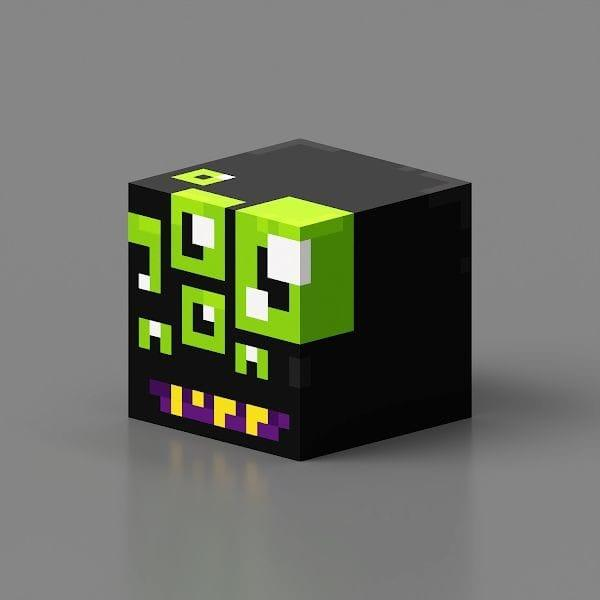cubos: (114, 126, 490, 470)
